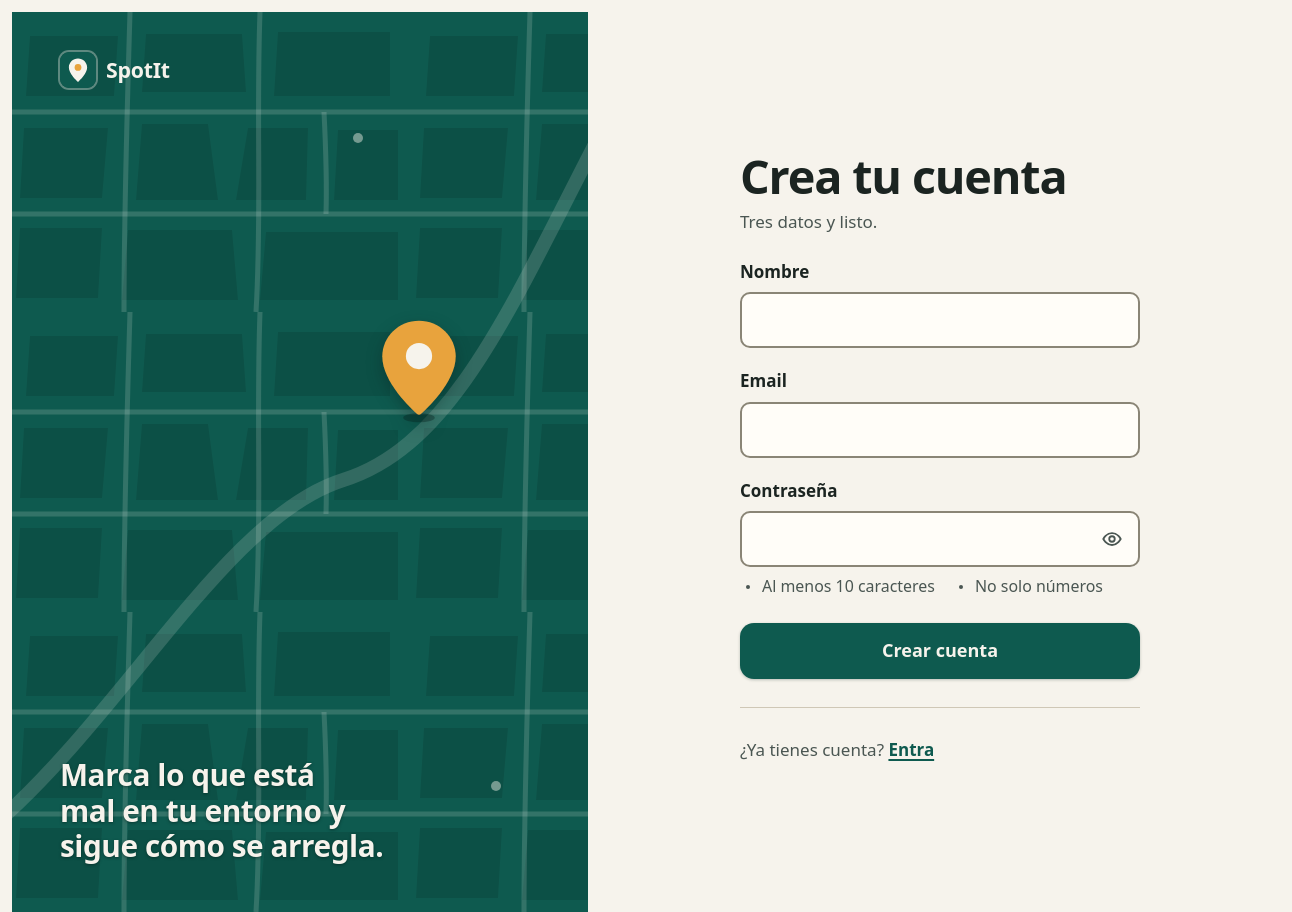
formulario de registro › marca los requisitos de la contraseña mientras se escribe
Type "1234567890" into the password field labelled "Contraseña". click: point(940, 539)
box: [740, 511, 1140, 567]
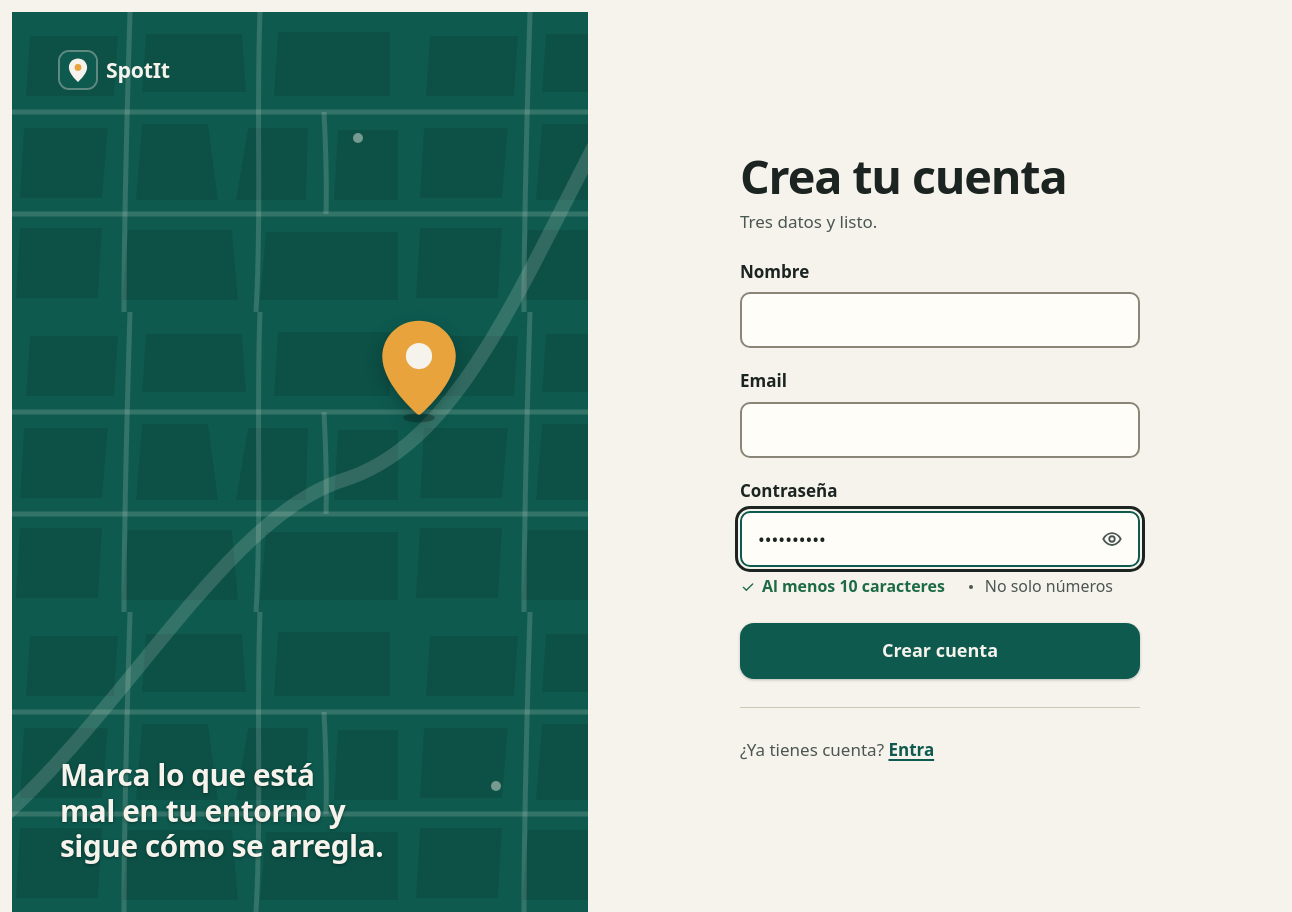
Expected: the list item "Al menos 10 caracteres" has class "is-ok", [740, 575, 945, 599]
